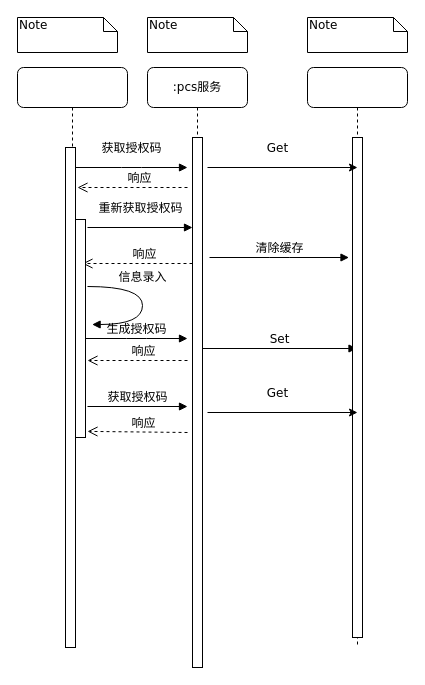
The diagram is 425 pixels wide and 685 high, and some of its shapes have lost their labels. The shapes that lost their labels are listed below. From the top down, each one's box as (x1, y1, x2, y2) in pixels, then its label:
(16, 66, 128, 648): :Web端
(306, 66, 408, 648): :Redis
